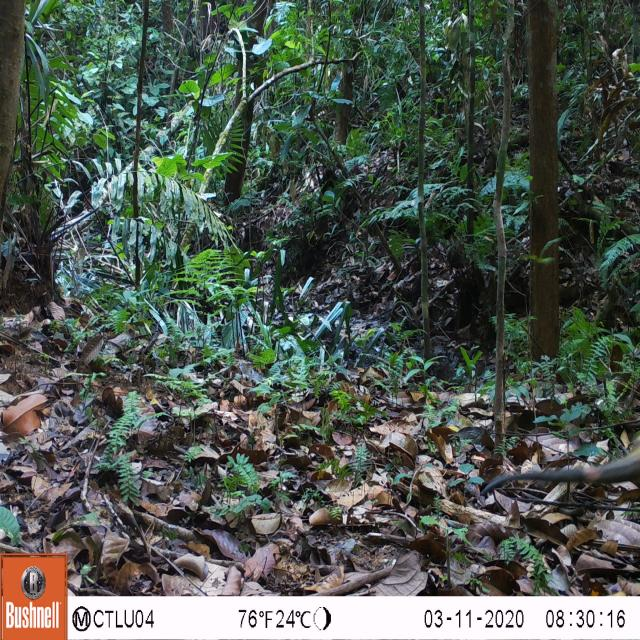Southern Tamandua: (474, 424, 640, 502)
